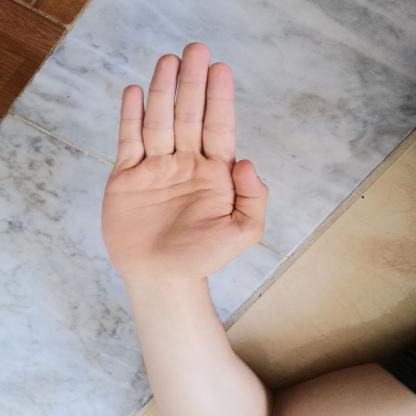SEEN: (87, 32, 276, 292)
